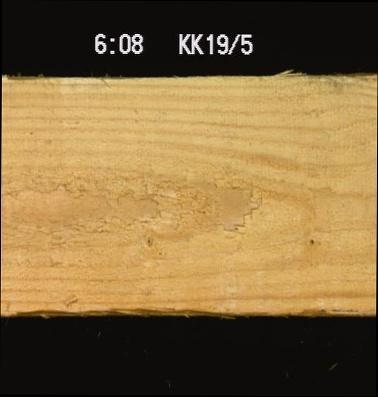small_knot: (141, 230, 157, 250), (304, 231, 318, 249)
wave: (7, 298, 237, 314), (281, 300, 358, 315)
